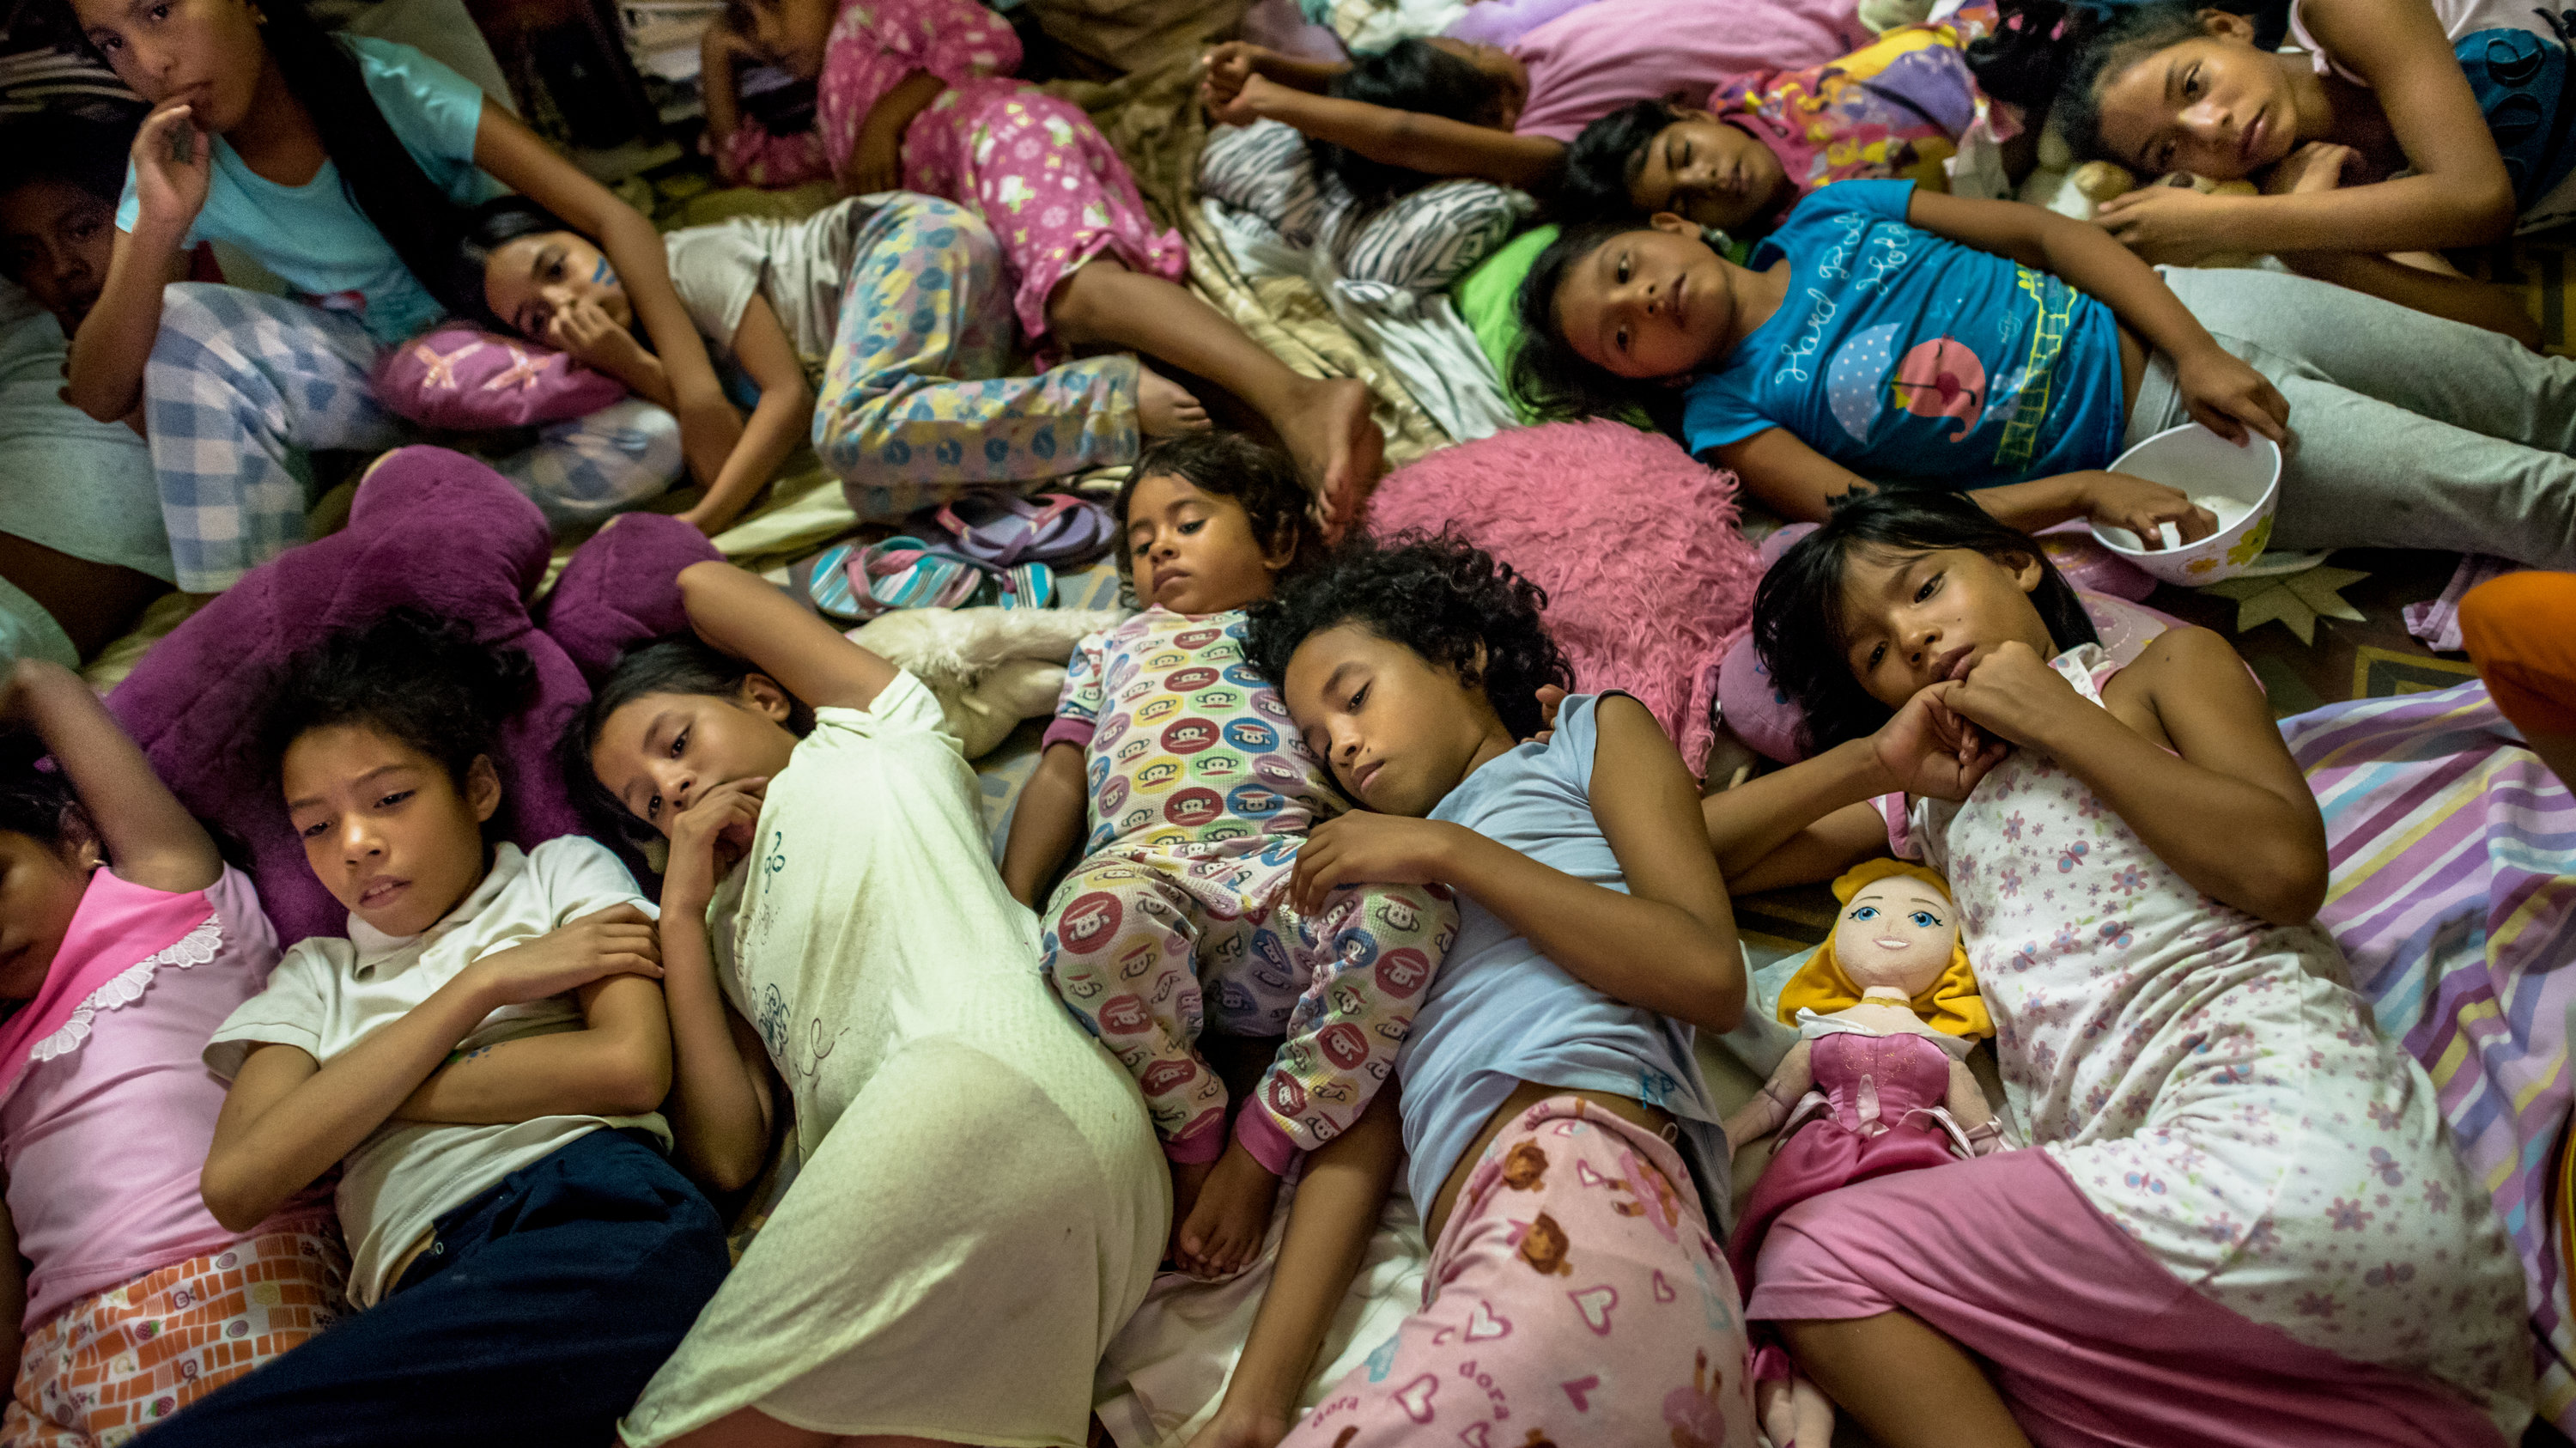human: (1655, 484, 2576, 1448), (540, 535, 1202, 1448), (1479, 155, 2576, 566), (193, 636, 745, 1448), (1010, 394, 1479, 1278), (1291, 508, 1714, 1448), (37, 1, 682, 500), (461, 226, 1264, 463)
